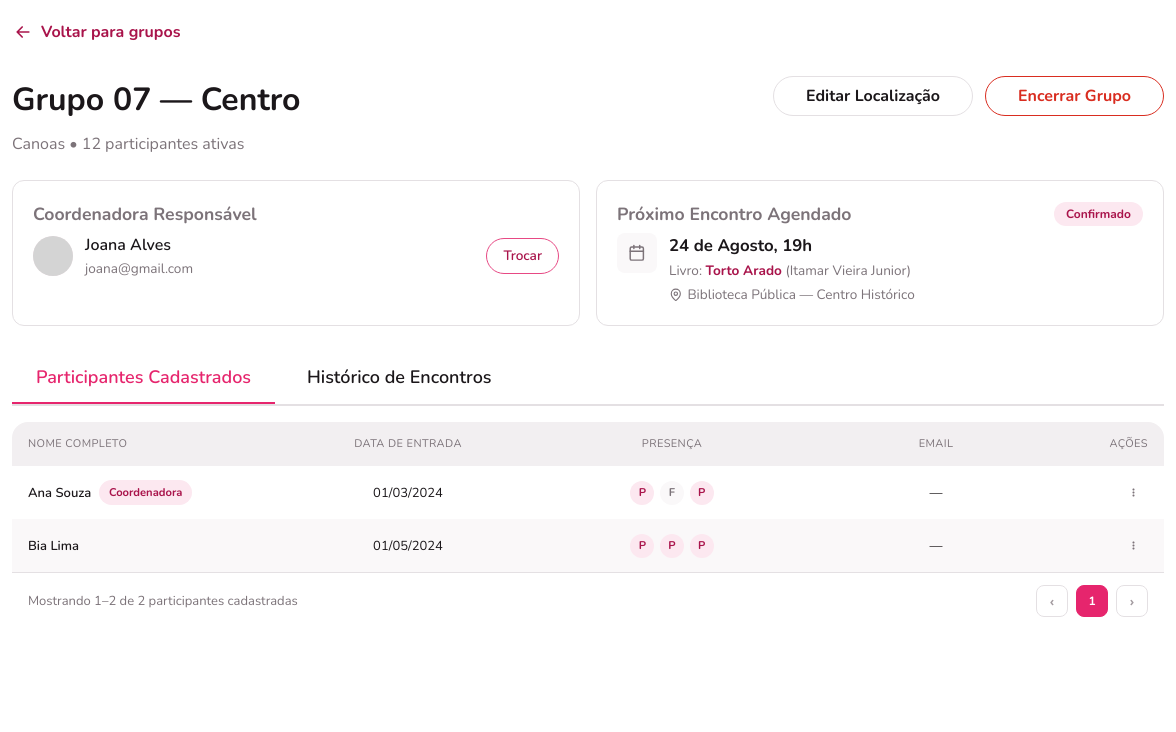
Test: GroupDetails › ações da participante › coordenadora não tem a opção de tornar coordenadora
Expected: the link "Ana Souza Coordenadora" is shown, [28,480,192,505]
What coordinates should you click on to do the following:
click the button named "Ações da participante Ana Souza"
I would click on:
 (1134, 493)
Its box is [1119,478,1148,507].
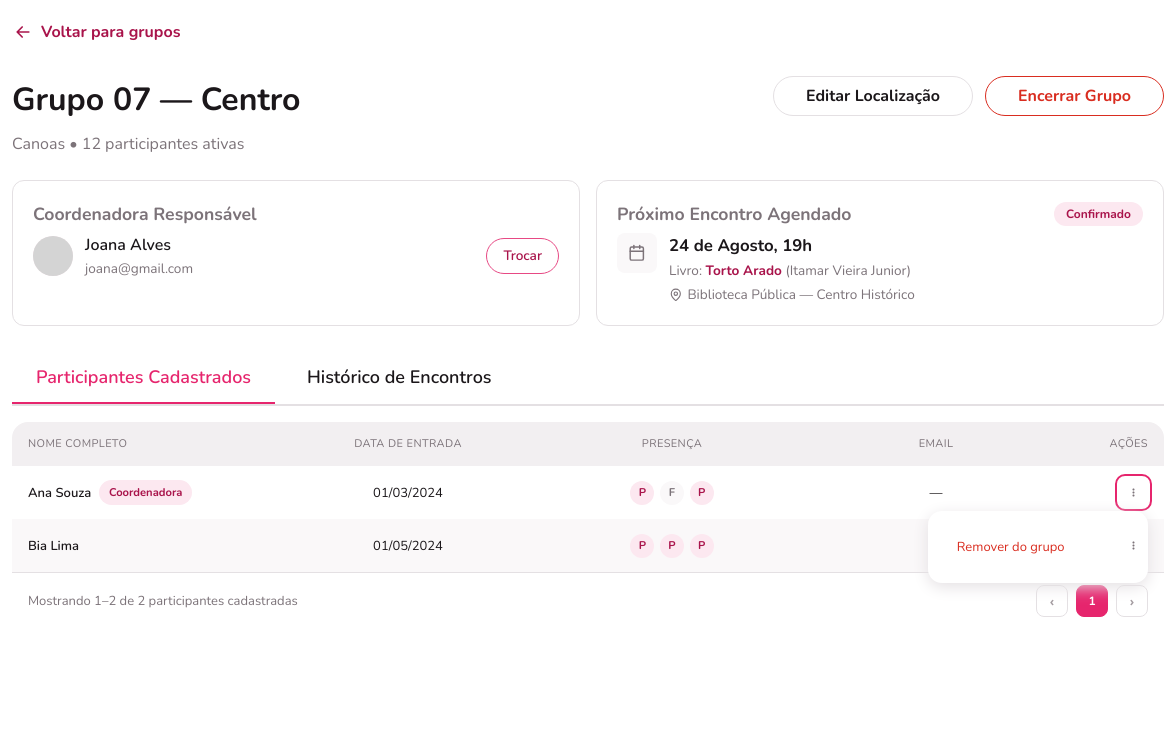
Expected: the menu item "Remover do grupo" is shown, [944,527,1132,566]
